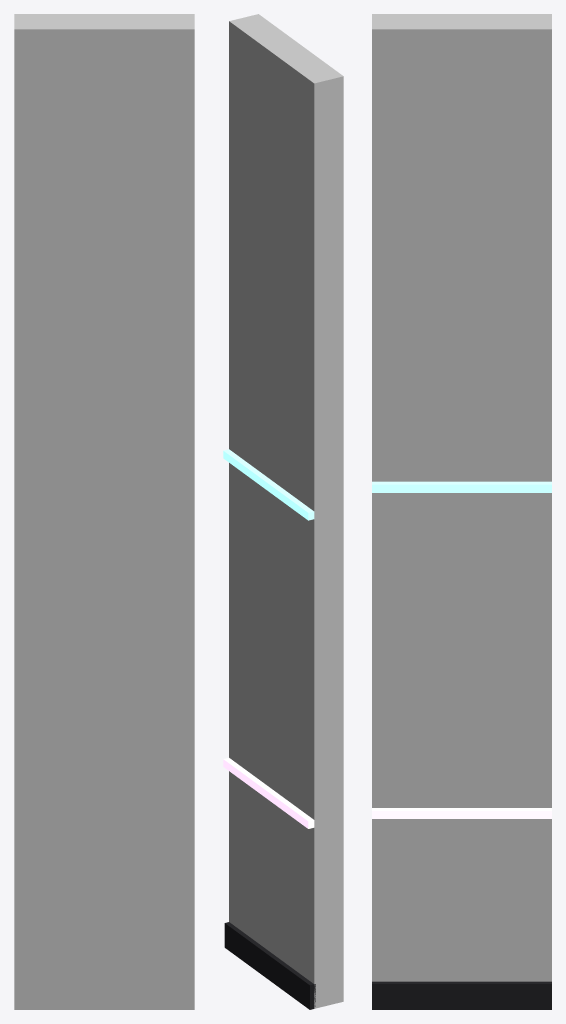
Rendered from SM_Wall_Retro.fbx.
The picture shows the model from 3 angles, left to right: view 1: azimuth 90°, elevation 25°; view 2: azimuth 210°, elevation 25°; view 3: azimuth 270°, elevation 25°; orthographic projection. The views are drawn at different scales.
Parts seen in each view (by area): view 1: SM_Wall_Retro; view 2: SM_Wall_Retro; view 3: SM_Wall_Retro.
Part boxes in pixels (x1,y1,x2,y2): SM_Wall_Retro: [14, 14, 194, 1009]; SM_Wall_Retro: [223, 14, 343, 1009]; SM_Wall_Retro: [372, 14, 551, 1009].
Bounding box in the file's own units: 24 × 600 × 100.
